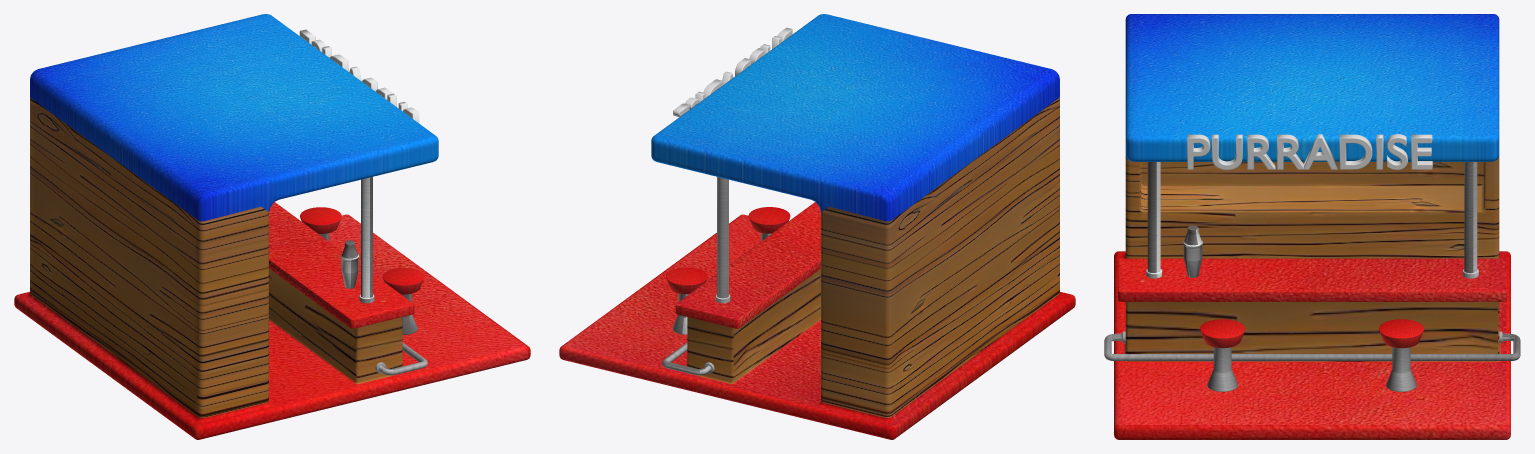
File: BAr.fbx
3 views of the same model, side by side, from view 1: azimuth 30°, elevation 25°; view 2: azimuth 150°, elevation 25°; view 3: azimuth 270°, elevation 25° (orthographic). The views are drawn at different scales.
Parts seen in each view (by area): view 1: Cube, Cylinder, Cylinder.002, Cylinder.003, Cylinder.006, Cylinder.001; view 2: Cube, Cylinder, Cylinder.003, Cylinder.002, Cylinder.001; view 3: Cube, Cylinder, Cylinder.001, Cylinder.002, Cylinder.003, Cylinder.006, Text.028, Text.022, Text.009, Text.024, Text.016, Text.013 (+2 smaller).
Boxes of the visible parts, box(x1,y1,x2,y2) form: Cube: box(14, 14, 530, 439); Cylinder: box(359, 177, 374, 303); Cylinder.002: box(382, 267, 424, 334); Cylinder.003: box(300, 207, 341, 241); Cylinder.006: box(340, 240, 359, 288); Cylinder.001: box(375, 342, 427, 375); Cube: box(559, 14, 1075, 439); Cylinder: box(715, 177, 730, 303); Cylinder.003: box(666, 267, 707, 334); Cylinder.002: box(748, 207, 790, 241); Cylinder.001: box(662, 342, 714, 375); Cube: box(1114, 14, 1510, 439); Cylinder: box(1146, 162, 1478, 278); Cylinder.001: box(1104, 331, 1520, 360); Cylinder.002: box(1200, 319, 1245, 391); Cylinder.003: box(1379, 319, 1423, 391); Cylinder.006: box(1183, 225, 1203, 277); Text.028: box(1339, 134, 1372, 169); Text.022: box(1247, 134, 1276, 169); Text.009: box(1411, 134, 1432, 169); Text.024: box(1277, 134, 1303, 169); Text.016: box(1211, 134, 1242, 169); Text.013: box(1303, 134, 1338, 169).
Size of the model in its own units: 385 by 265 by 382.
Materials: 14 (6 with a texture image).
